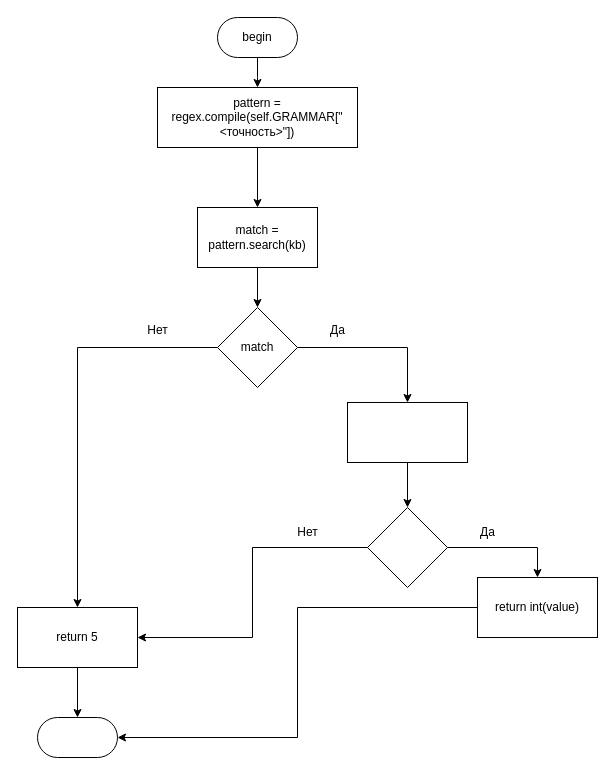
This 615x775 diagram has some shape labels left out. The shapes that lost their labels are listed below. From the top down, each one's centre as x and y in pixels, then its label:
At (407,432): "value = match.group().split('=')[1].strip()".
At (407,547): "int (value)>1".
At (77,737): "end".
